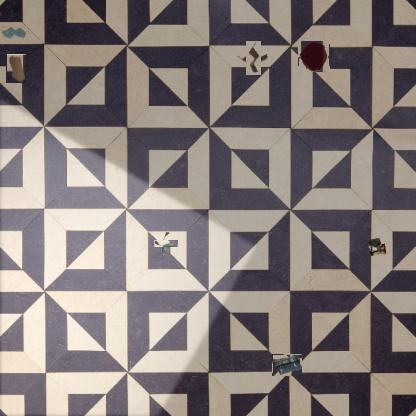dirty: (272, 354, 302, 376), (6, 54, 26, 83), (241, 46, 265, 70), (365, 238, 389, 260), (158, 235, 174, 251)
liquid: (298, 41, 330, 72), (2, 26, 29, 40)
